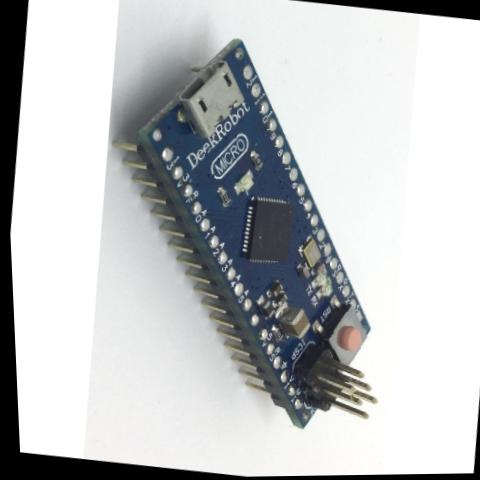Arduino-Micro: (70, 20, 419, 445)
